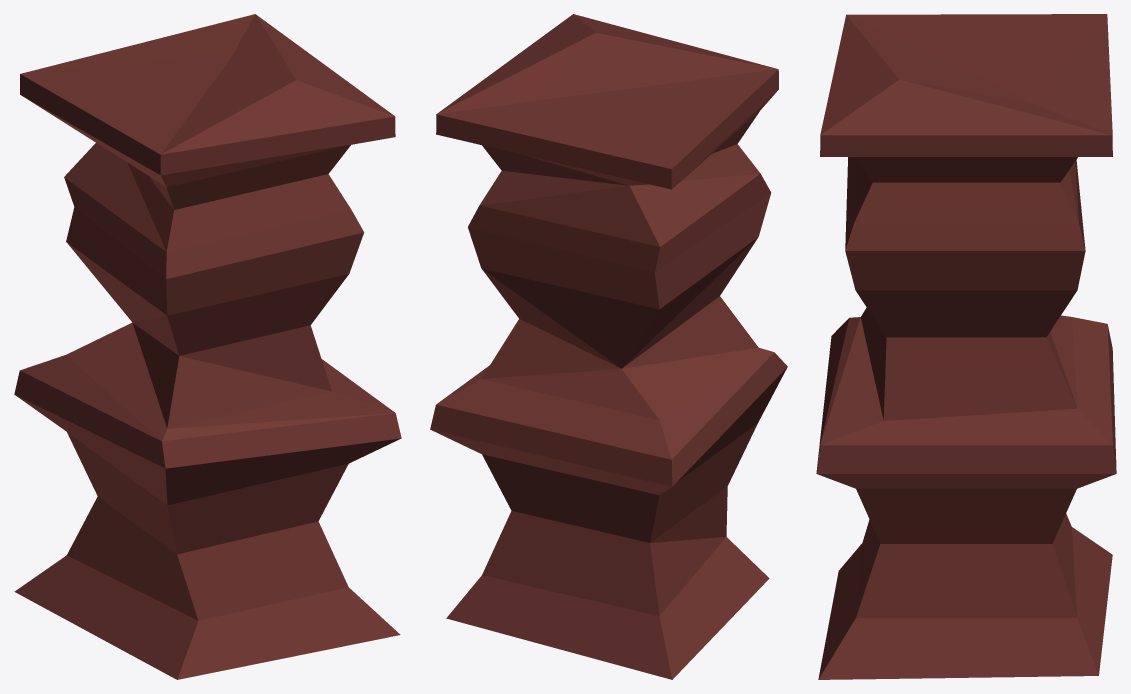
File: Ruin_9_Red.fbx
3 views of the same model, side by side, from view 1: azimuth 30°, elevation 25°; view 2: azimuth 150°, elevation 25°; view 3: azimuth 270°, elevation 25° (orthographic). The views are drawn at different scales.
Parts seen in each view (by area): view 1: Ruin_9_Red; view 2: Ruin_9_Red; view 3: Ruin_9_Red.
Part boxes in pixels (box(x1,y1,x2,y2)): Ruin_9_Red: box(14, 14, 401, 679); Ruin_9_Red: box(430, 14, 787, 679); Ruin_9_Red: box(816, 14, 1116, 679).
Size of the model in its own units: 197 by 417 by 200.
